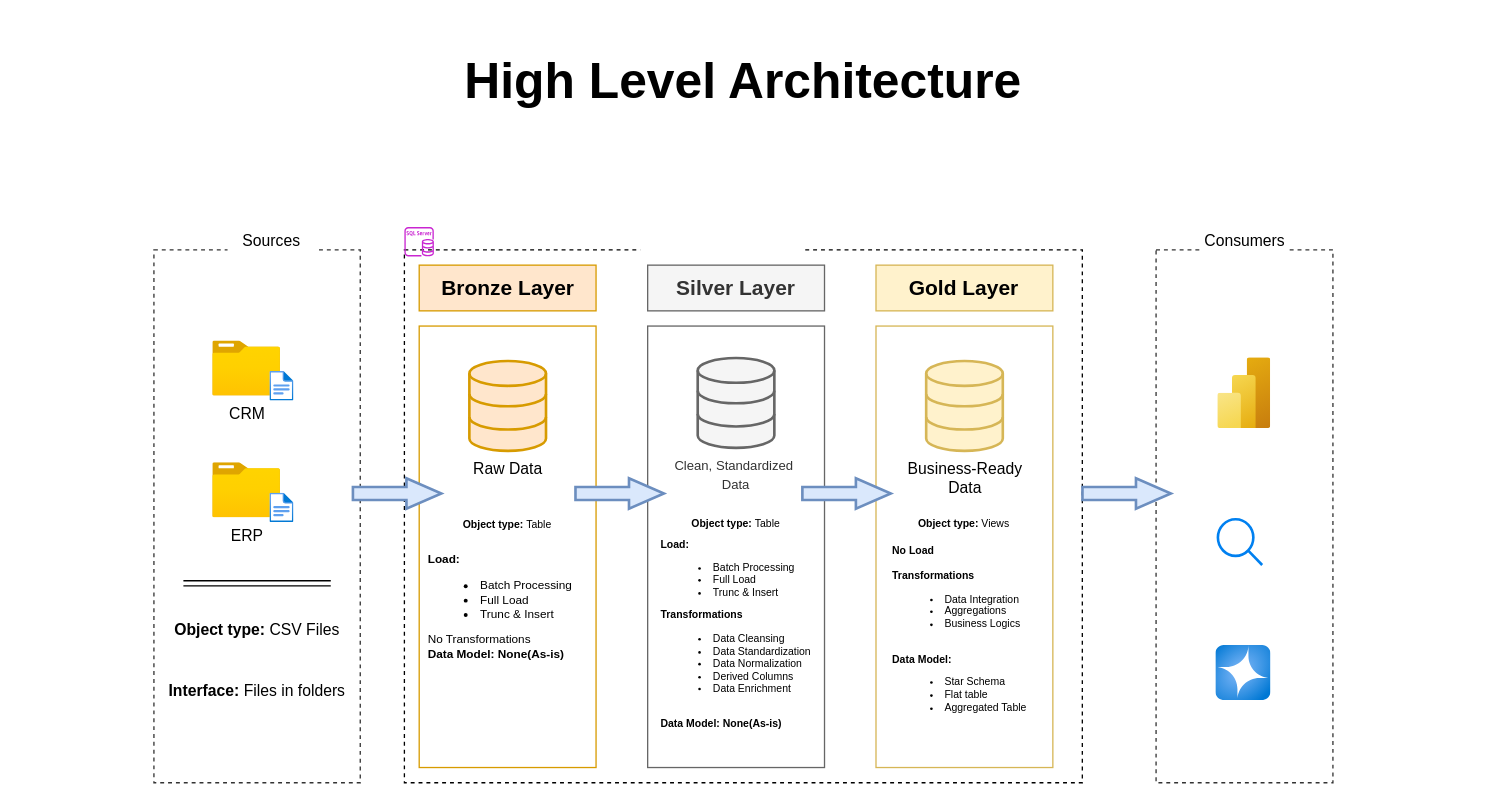
Some shapes in this 1486 by 806 pixel diagram are drawn without their labels. The box of each missing label's shape, as (x1, y1, x2, y2) in pixels:
Ad-hoc sql queries: (1216, 517, 1263, 566)
BI & Reporting: (1217, 357, 1270, 428)
Data Warehouse: (640, 219, 802, 264)
machine learning: (1215, 645, 1270, 700)
